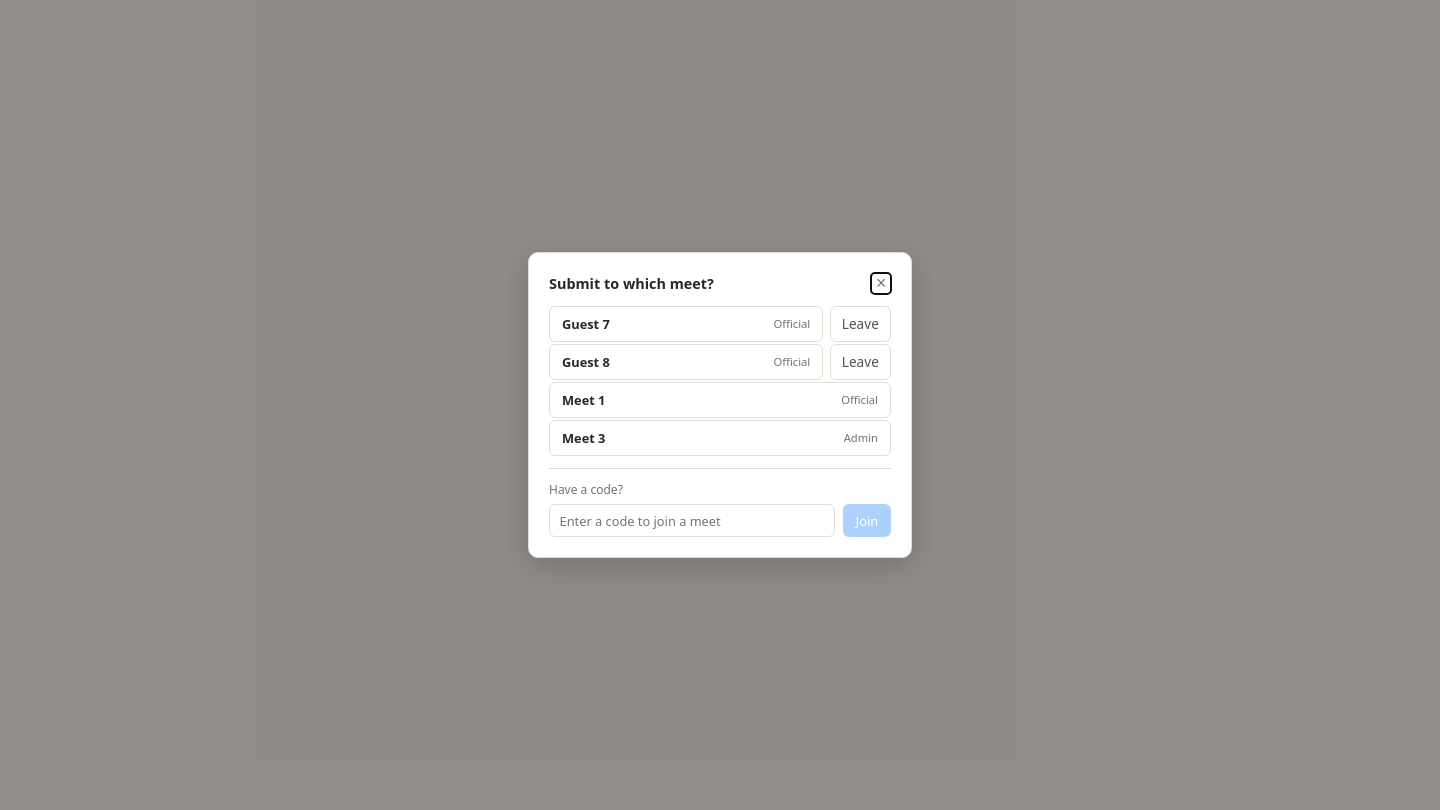
Test: choosing a meet to submit to › lets a guest leave a meet joined with a code, keeping the others
What coordinates should you click on to do the following:
click the 1st button "Leave"
I would click on:
 (860, 324)
Its box is [830, 306, 891, 342].
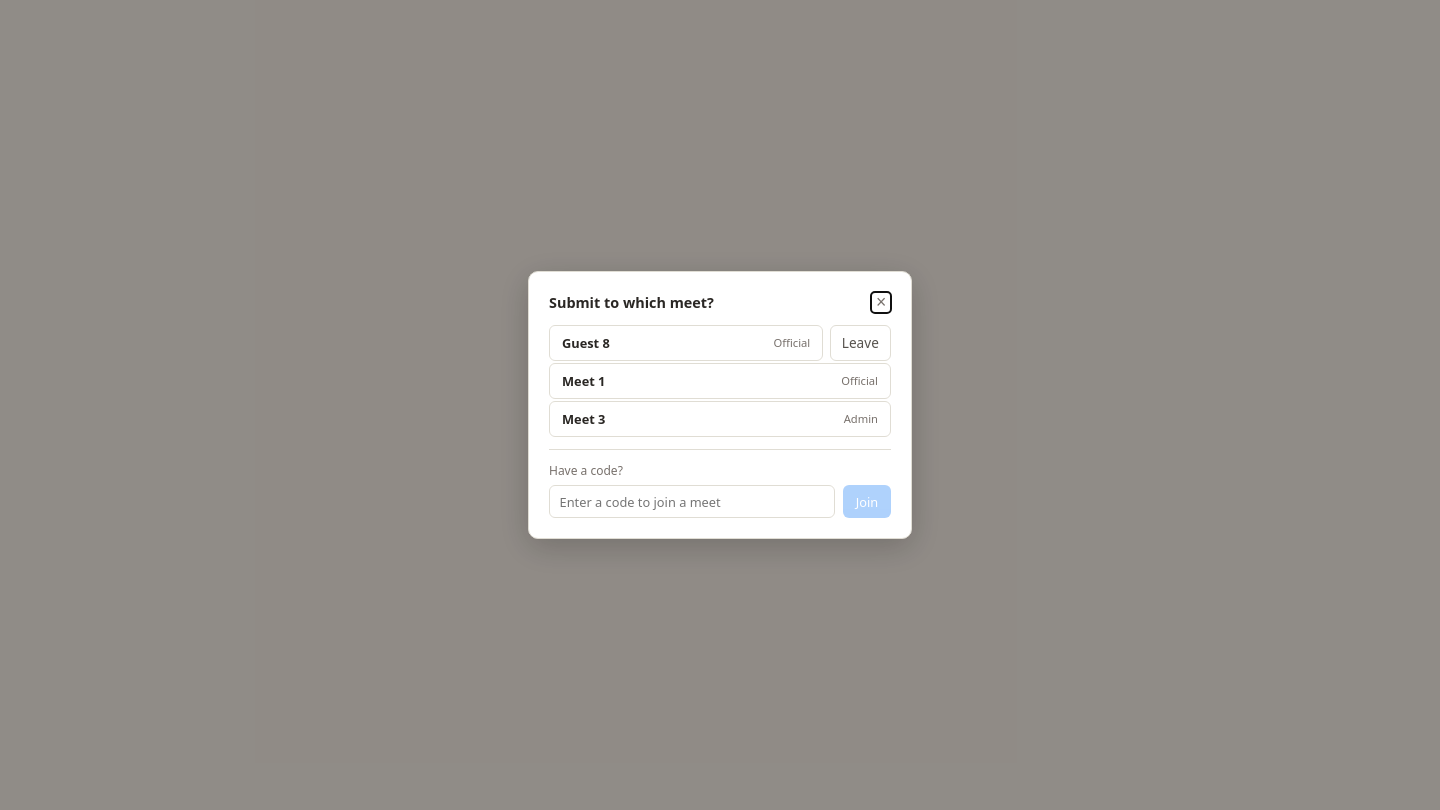
Expected: the text with class "meet-row-name" reads "Guest 8", [562, 334, 610, 352]
Expected: the button with class "meet-row-name" no longer shows "Guest 7"
